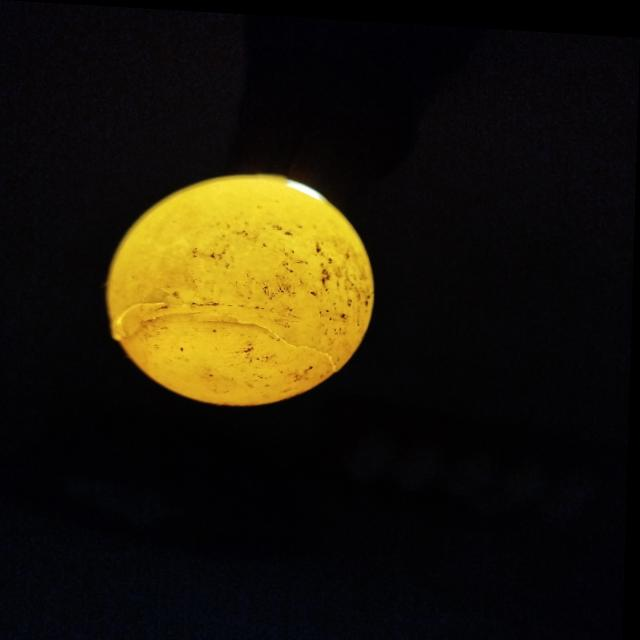Rachadura: (114, 298, 343, 370)
